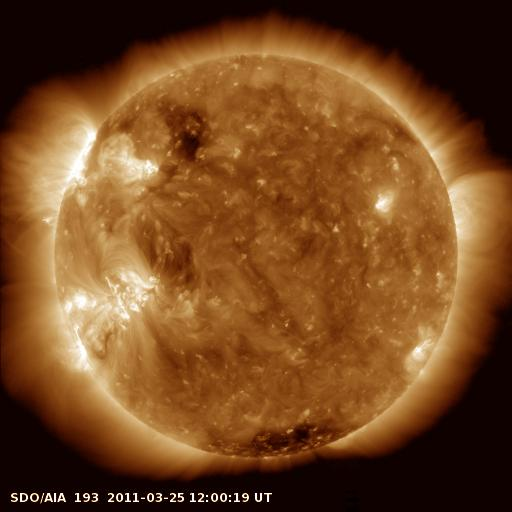coronal_hole: (213, 419, 351, 467), (164, 103, 208, 166)
